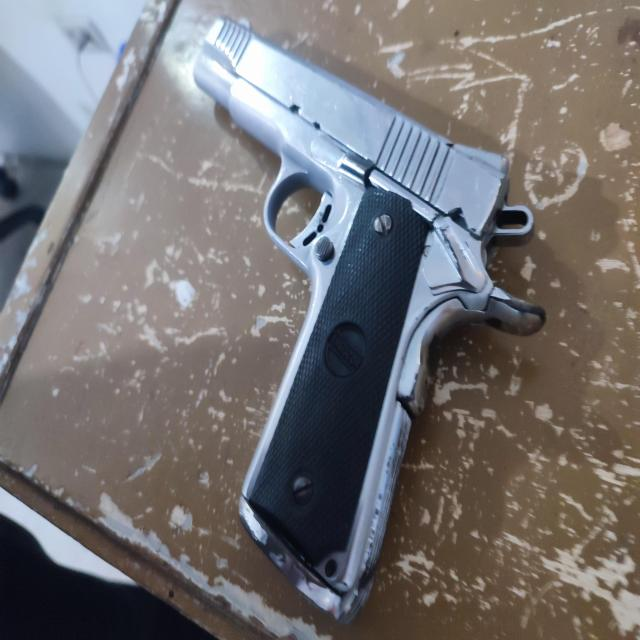pistol: (193, 15, 544, 616)
